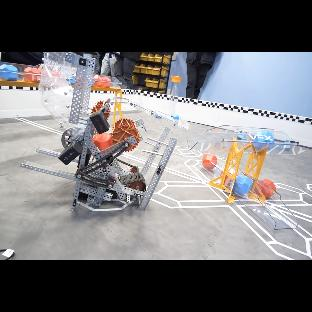Robot: (21, 52, 189, 211)
